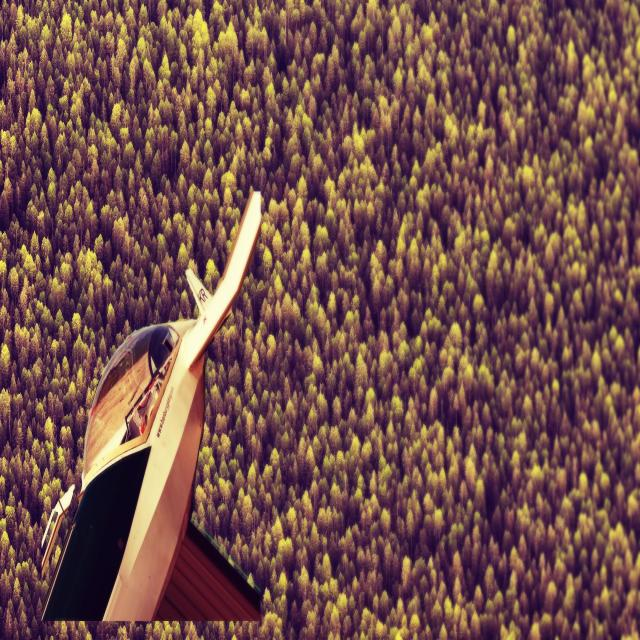airplane: (39, 186, 262, 624)
